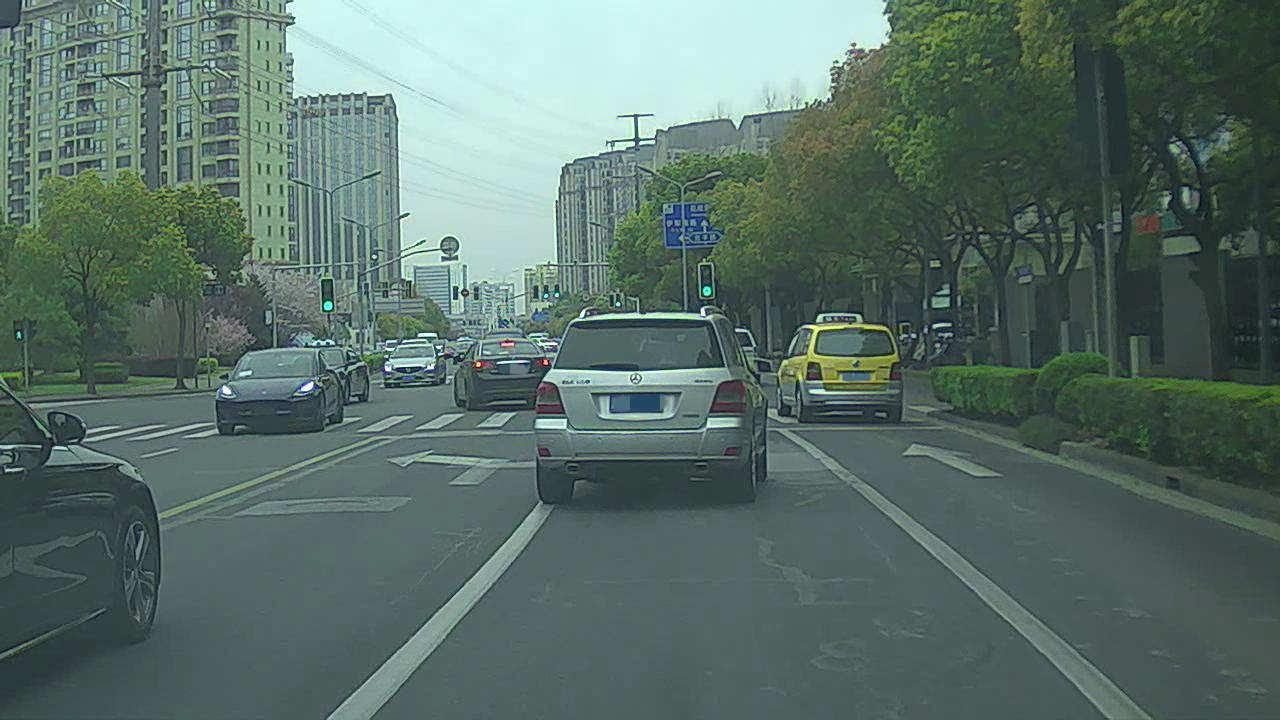traffic_light: (696, 264, 715, 301), (320, 277, 339, 313), (531, 285, 539, 299), (608, 294, 615, 309), (543, 284, 549, 299), (615, 294, 621, 308), (554, 284, 559, 299)
